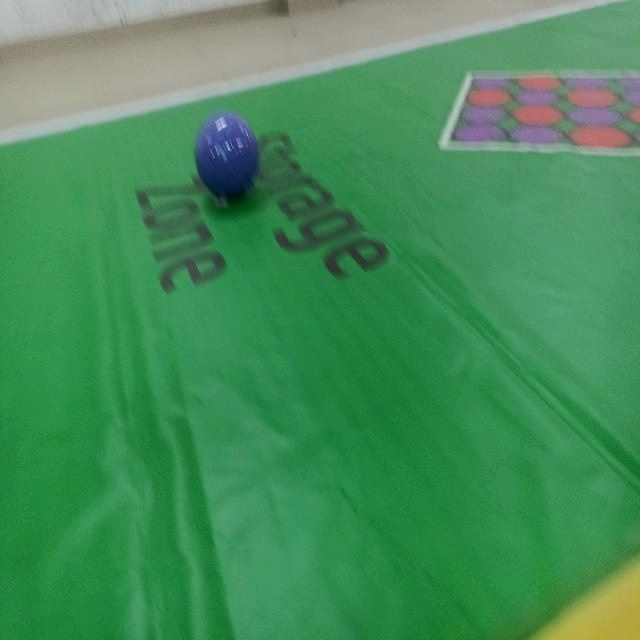purple_ball: (187, 108, 256, 196)
